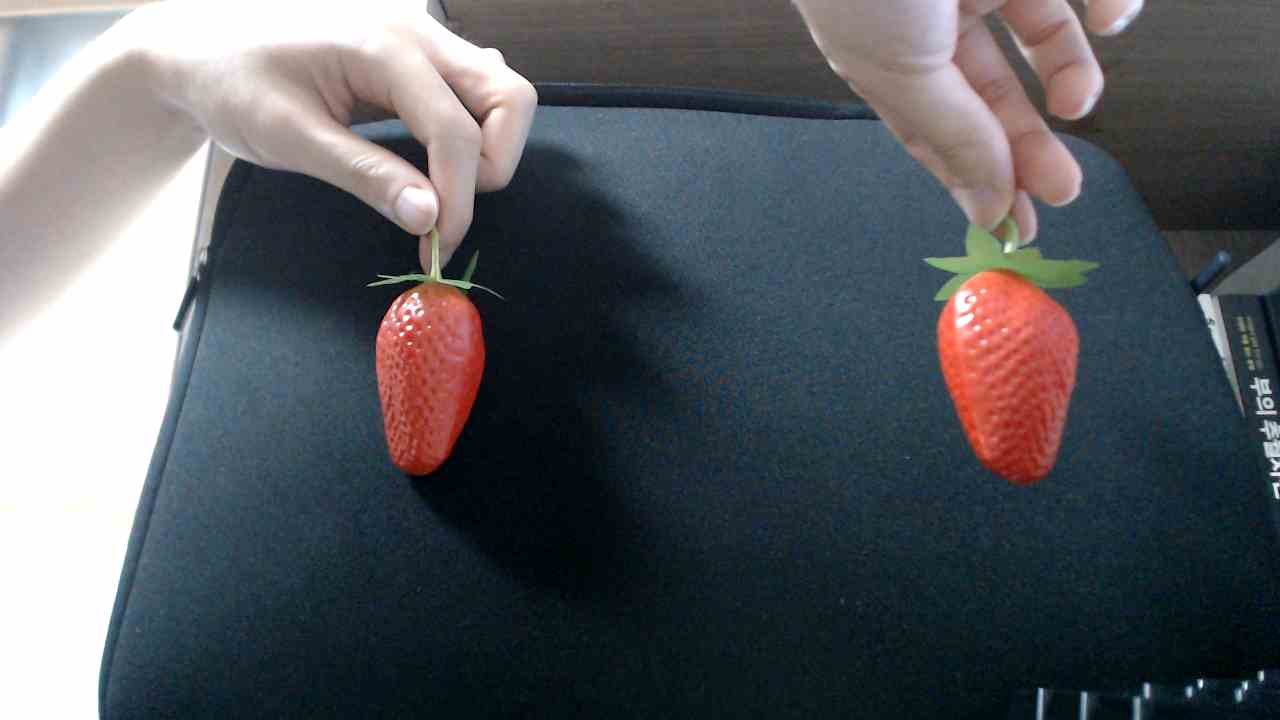strawberry: (919, 237, 1085, 491), (369, 259, 494, 477)
